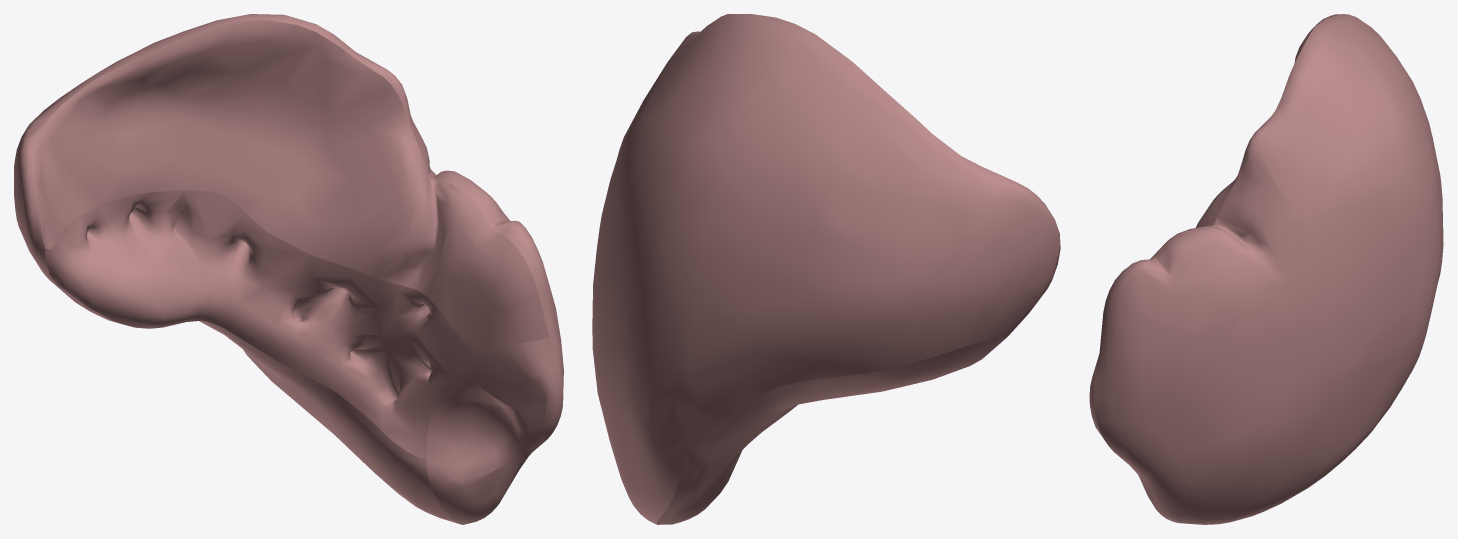
Rendered from spleen.glb.
The picture shows the model from 3 angles, left to right: view 1: azimuth 30°, elevation 25°; view 2: azimuth 150°, elevation 25°; view 3: azimuth 270°, elevation 25°; orthographic projection. The views are drawn at different scales.
Parts seen in each view (by area): view 1: VH_M_colic_surface_of_spleen; view 2: VH_M_colic_surface_of_spleen; view 3: VH_M_colic_surface_of_spleen.
Boxes of the visible parts, box(x1,y1,x2,y2) form: VH_M_colic_surface_of_spleen: box(14, 14, 563, 524); VH_M_colic_surface_of_spleen: box(592, 14, 1060, 524); VH_M_colic_surface_of_spleen: box(1089, 14, 1443, 524).
Bounding box in the file's own units: 0.1104 × 0.1186 × 0.0886.
